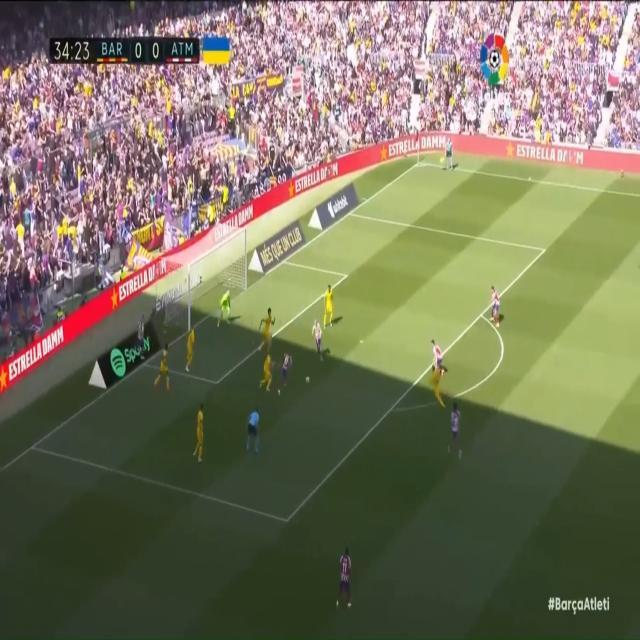ball: (305, 370, 311, 385)
goalkeeper: (206, 283, 232, 333)
player: (330, 539, 355, 628), (190, 398, 208, 473), (448, 398, 465, 476), (429, 359, 451, 414), (256, 345, 275, 405), (181, 318, 199, 380), (310, 312, 331, 365), (488, 272, 505, 336), (321, 279, 339, 336), (258, 299, 275, 359), (278, 339, 294, 399), (157, 339, 173, 395), (428, 327, 444, 379), (135, 303, 148, 363)
referee: (242, 398, 263, 465), (442, 129, 459, 173)
